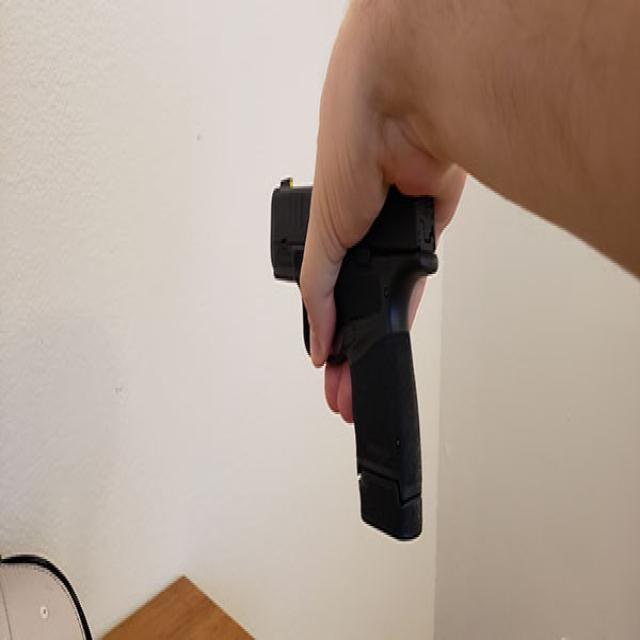HandGun: (258, 155, 441, 557)
